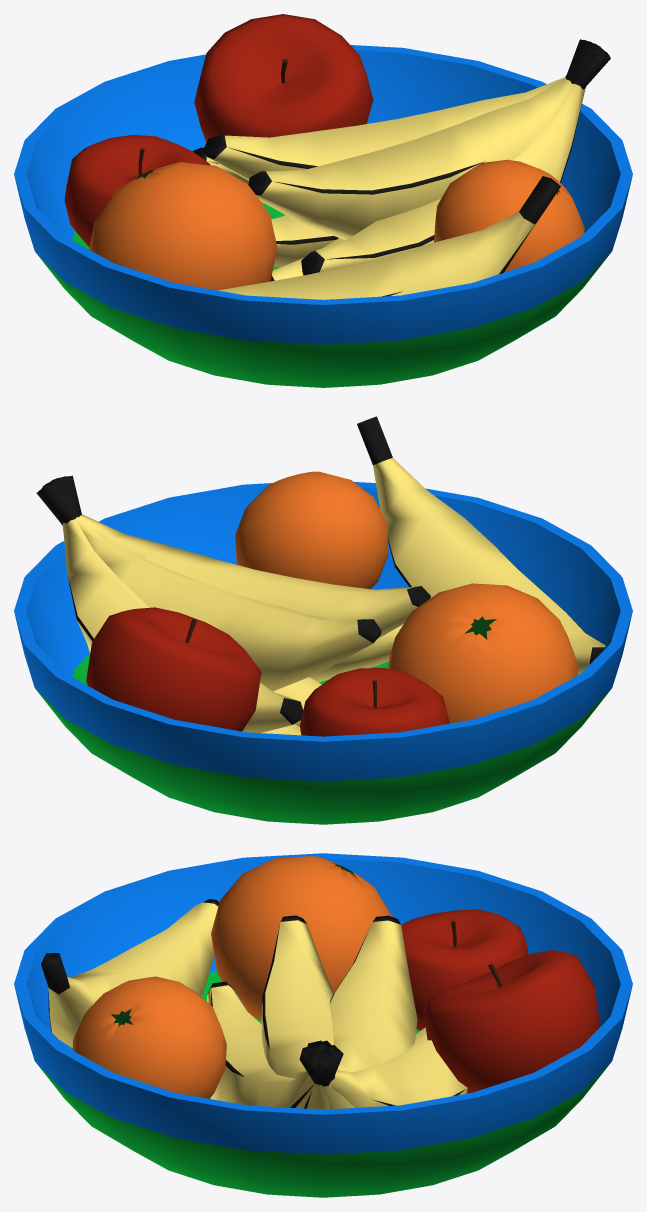
Rendered from Fruit_Bowl.fbx.
3 renders of one model, top to bottom at view 1: azimuth 30°, elevation 25°; view 2: azimuth 150°, elevation 25°; view 3: azimuth 270°, elevation 25°, orthographic.
Parts seen in each view (by area): view 1: Fruit_Bowl, Fruit_Bananas, Fruit_Orange_02, Fruit_Apple_01, Fruit_Banana, Fruit_Orange_01, Fruit_Apple_02; view 2: Fruit_Bowl, Fruit_Bananas, Fruit_Orange_02, Fruit_Apple_01, Fruit_Orange_01, Fruit_Banana, Fruit_Apple_02; view 3: Fruit_Bowl, Fruit_Bananas, Fruit_Apple_01, Fruit_Orange_02, Fruit_Orange_01, Fruit_Banana, Fruit_Apple_02.
Boxes of the visible parts, bbox=[...] form: Fruit_Bowl: bbox=[14, 45, 632, 387]; Fruit_Bananas: bbox=[193, 39, 610, 281]; Fruit_Orange_02: bbox=[89, 162, 277, 290]; Fruit_Apple_01: bbox=[194, 14, 373, 142]; Fruit_Banana: bbox=[217, 176, 560, 299]; Fruit_Orange_01: bbox=[434, 159, 584, 272]; Fruit_Apple_02: bbox=[64, 135, 210, 247]; Fruit_Bowl: bbox=[14, 482, 632, 824]; Fruit_Bananas: bbox=[36, 475, 430, 735]; Fruit_Orange_02: bbox=[388, 583, 578, 723]; Fruit_Apple_01: bbox=[86, 607, 261, 731]; Fruit_Orange_01: bbox=[235, 471, 388, 589]; Fruit_Banana: bbox=[357, 416, 605, 675]; Fruit_Apple_02: bbox=[299, 668, 449, 736]; Fruit_Bowl: bbox=[14, 853, 632, 1197]; Fruit_Bananas: bbox=[206, 915, 467, 1109]; Fruit_Apple_01: bbox=[423, 950, 599, 1093]; Fruit_Orange_02: bbox=[211, 856, 392, 1020]; Fruit_Orange_01: bbox=[72, 976, 226, 1098]; Fruit_Banana: bbox=[41, 899, 219, 1047]; Fruit_Apple_02: bbox=[401, 909, 528, 1030].
Size of the model in its own units: 29.18 by 12.09 by 28.35.
